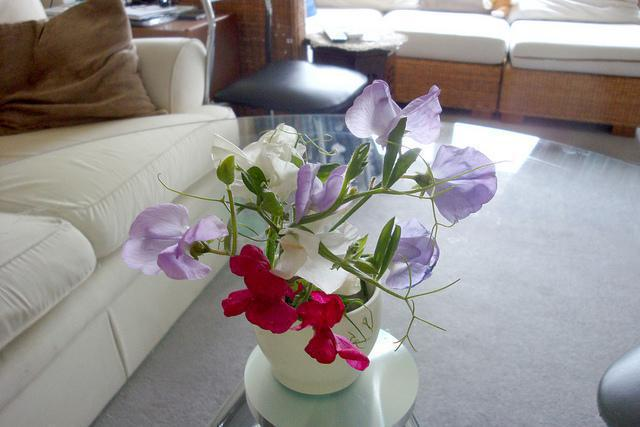Matera: (156, 134, 468, 417)
